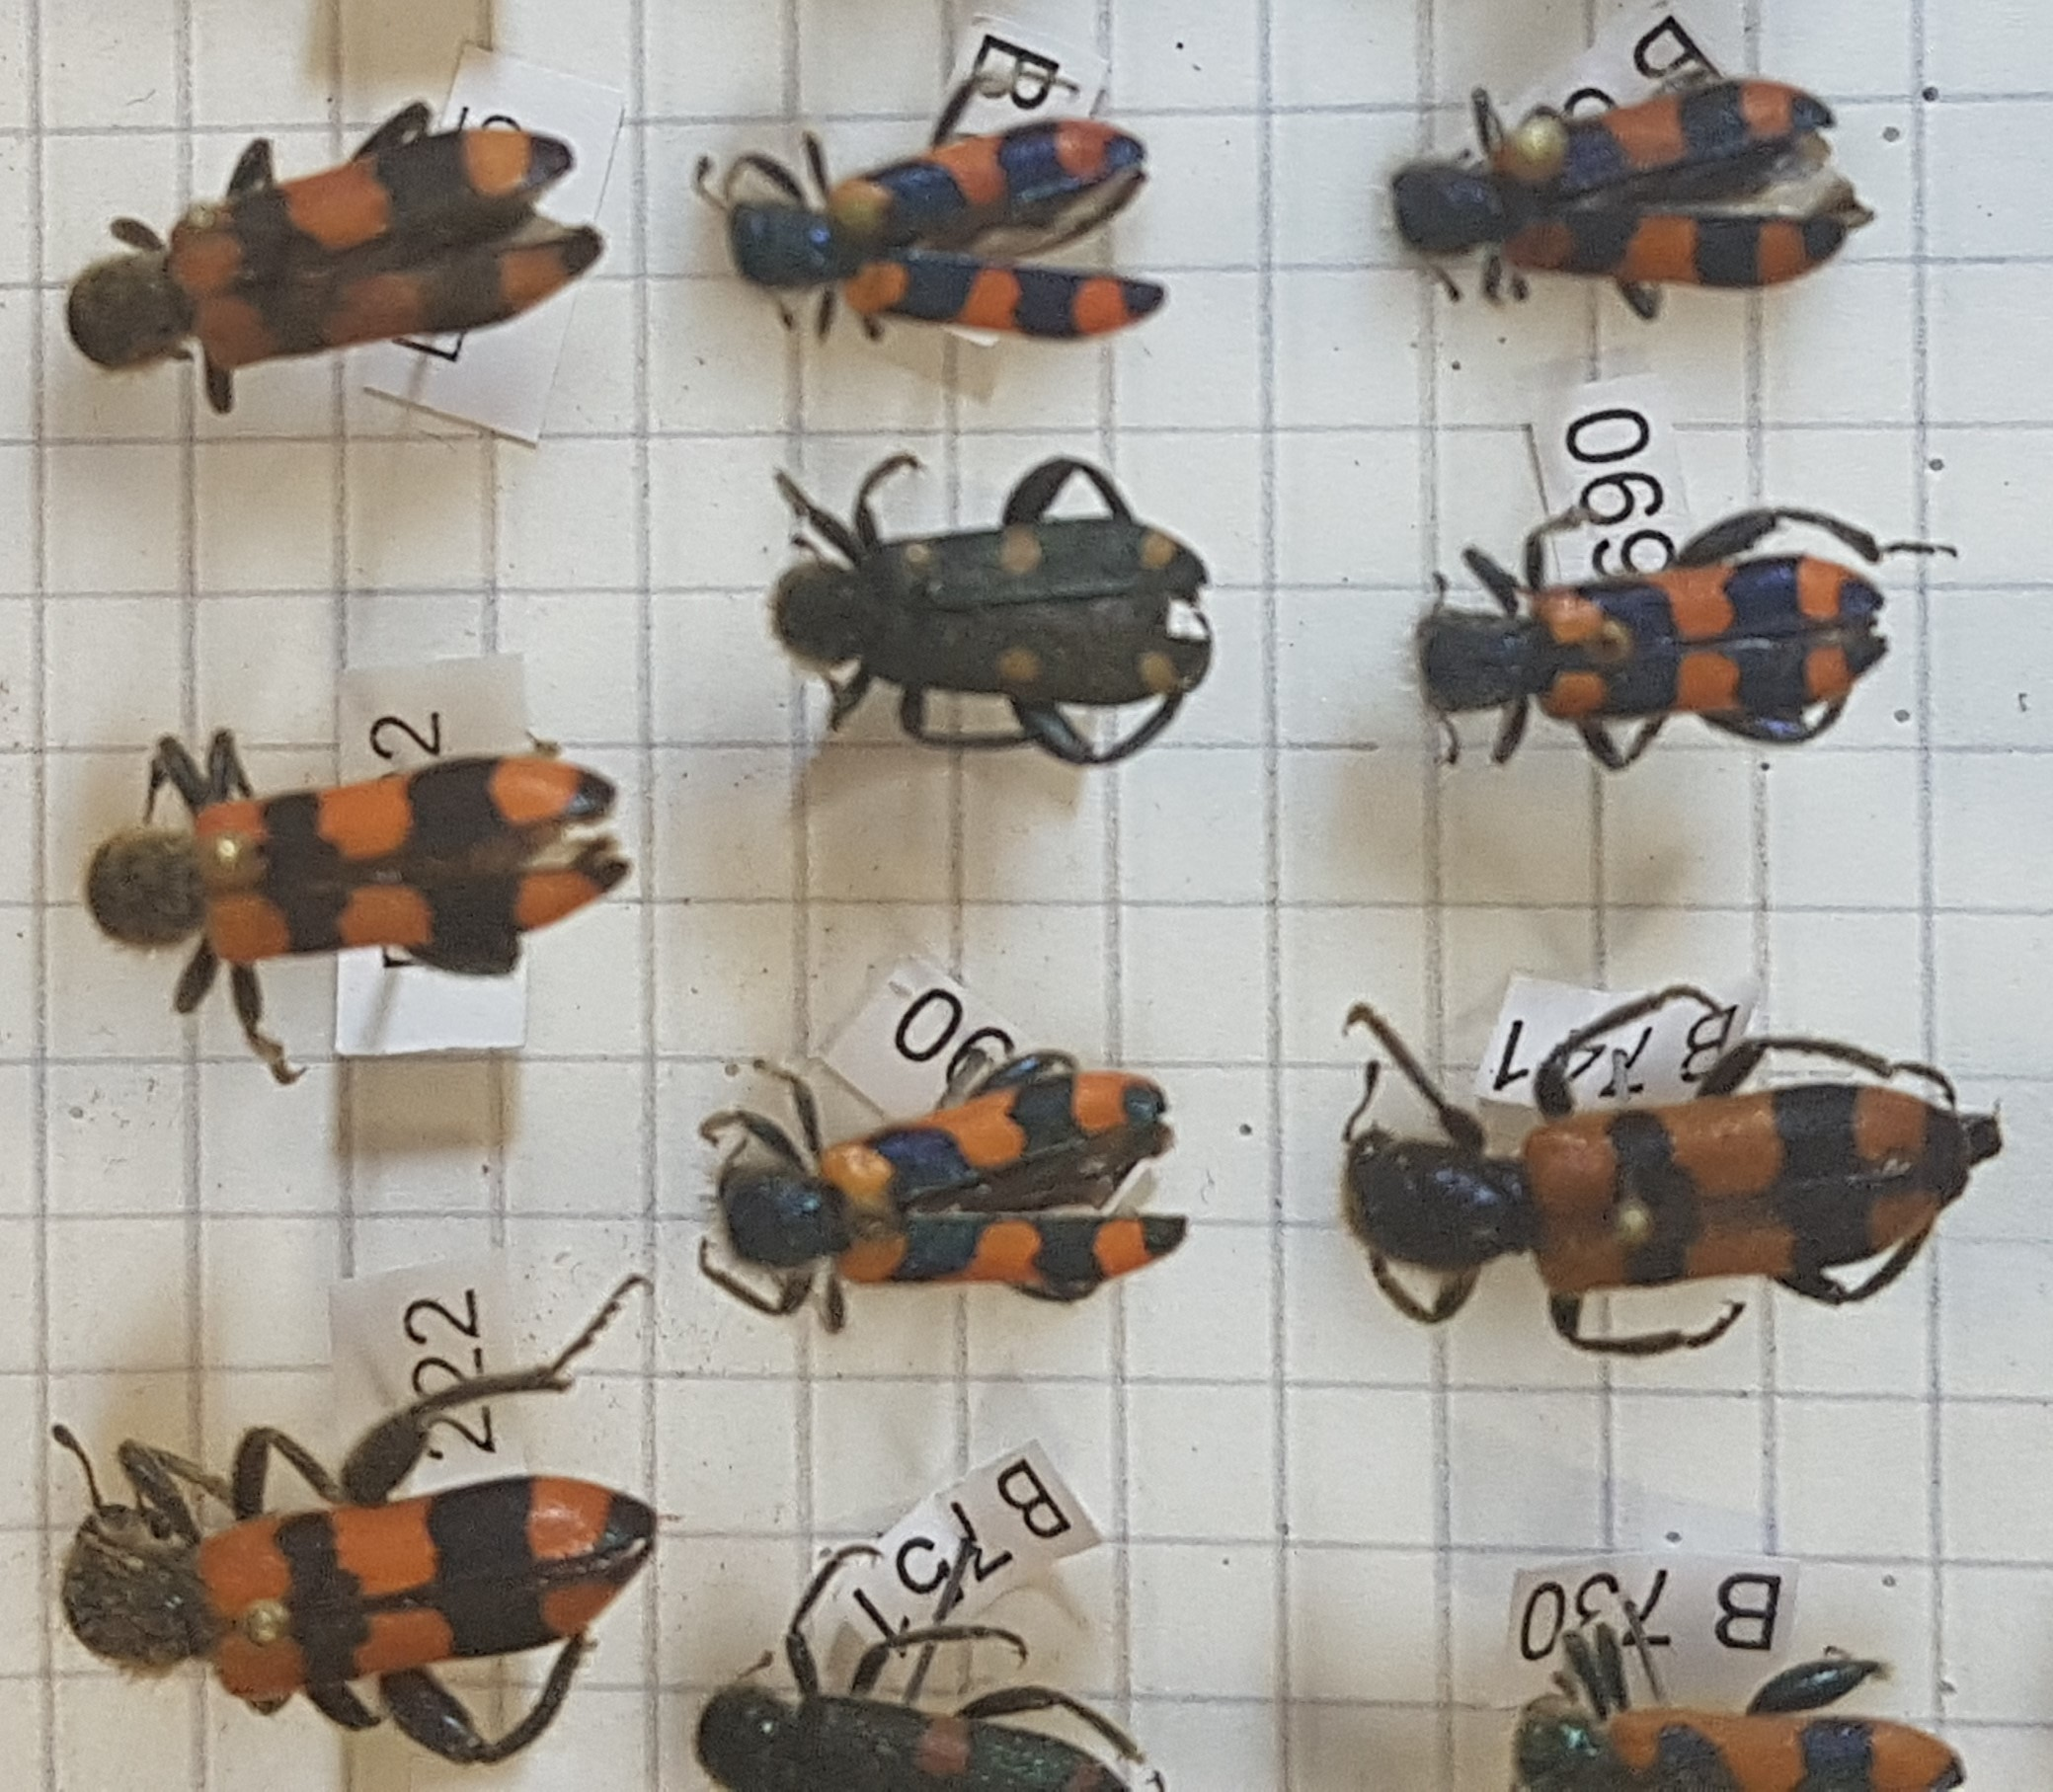trichodes_crabroniformis: (44, 1263, 667, 1771), (1297, 977, 2032, 1365), (73, 707, 656, 1108), (51, 84, 627, 445), (1411, 490, 1969, 803), (679, 68, 1205, 384), (1381, 28, 1891, 342), (690, 1043, 1206, 1335)
